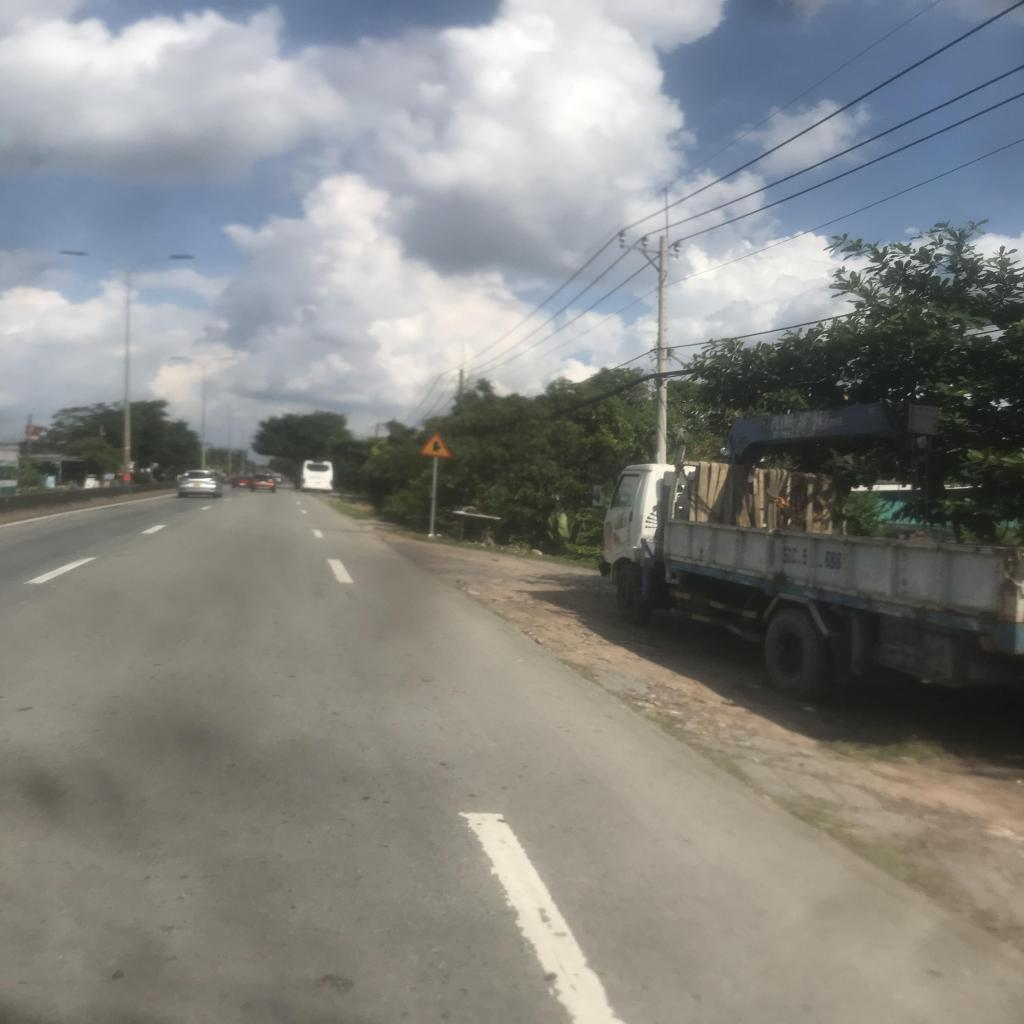giao_nhau_voi_duong_khong_uu_tien: (416, 430, 458, 460)
